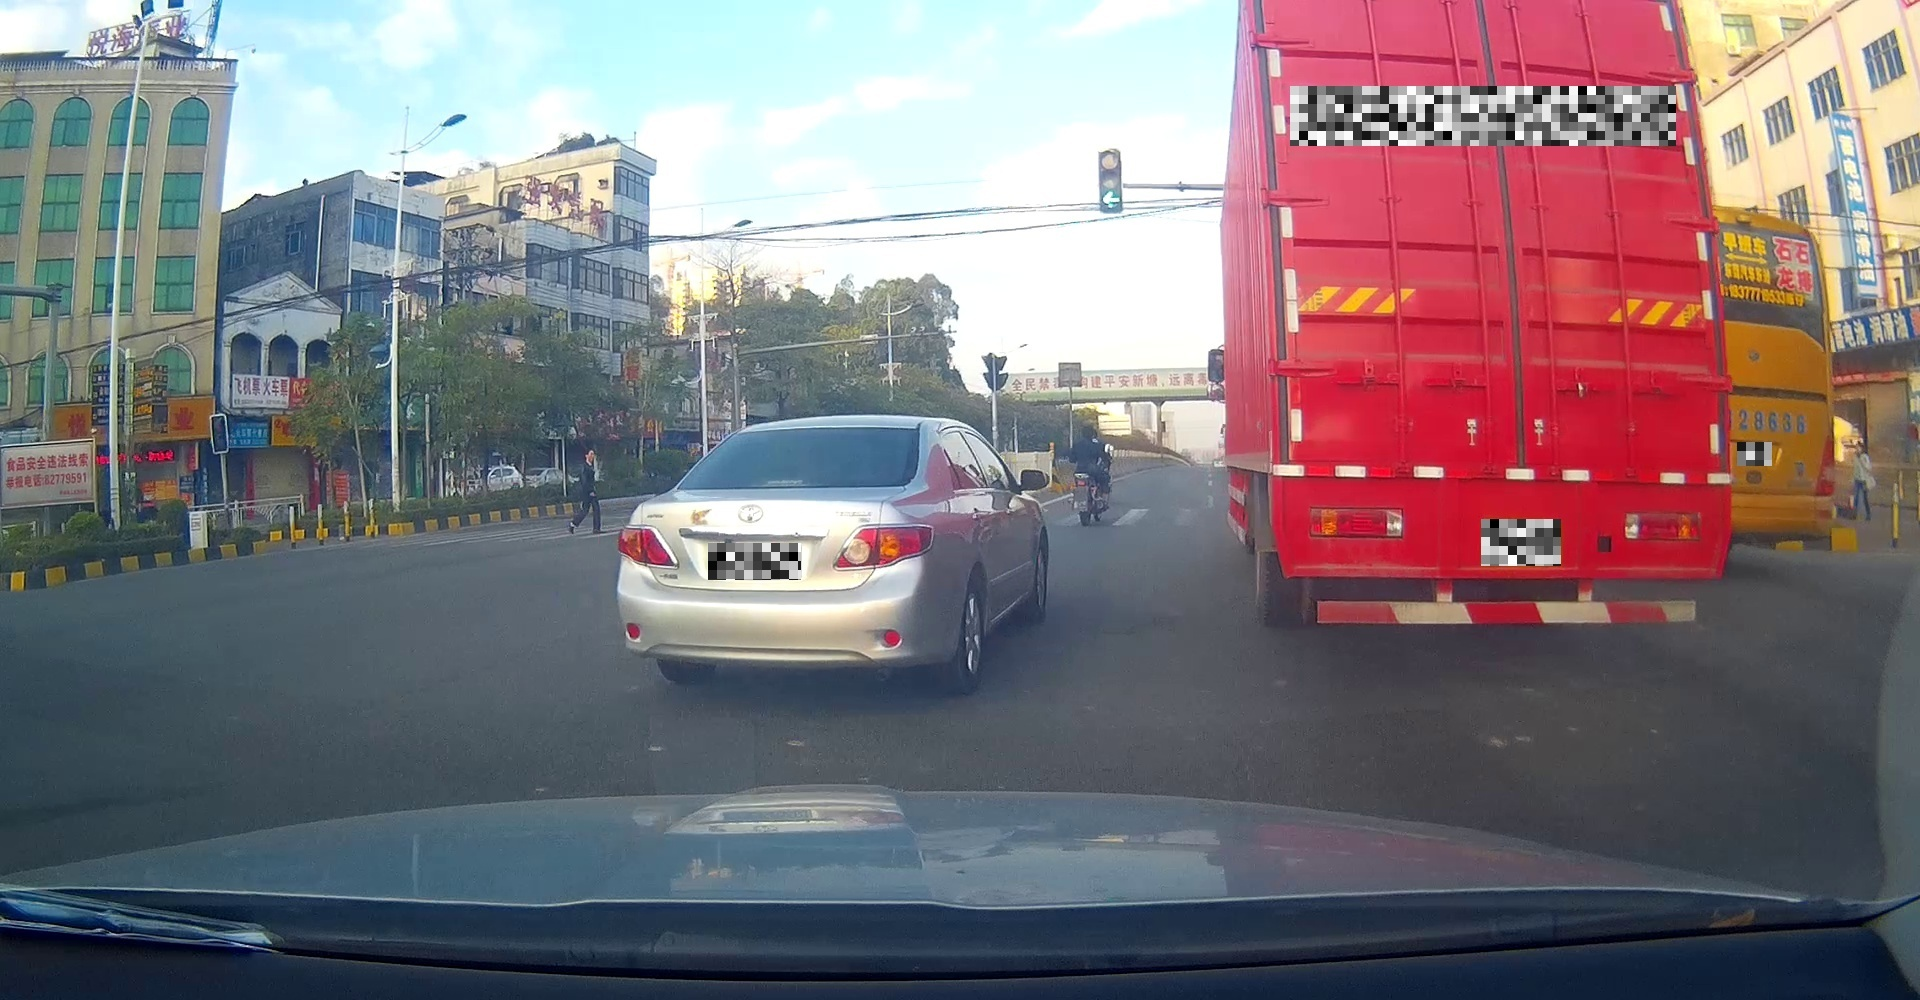L_light: (617, 525, 679, 569)
R_light: (832, 523, 935, 571)
T_light: (764, 478, 803, 491)
day-no: (615, 415, 935, 694)
plate_1: (709, 543, 801, 580)
plate_2: (1290, 86, 1676, 146)
plate_3: (1481, 519, 1561, 566)
plate_4: (1737, 442, 1771, 466)
